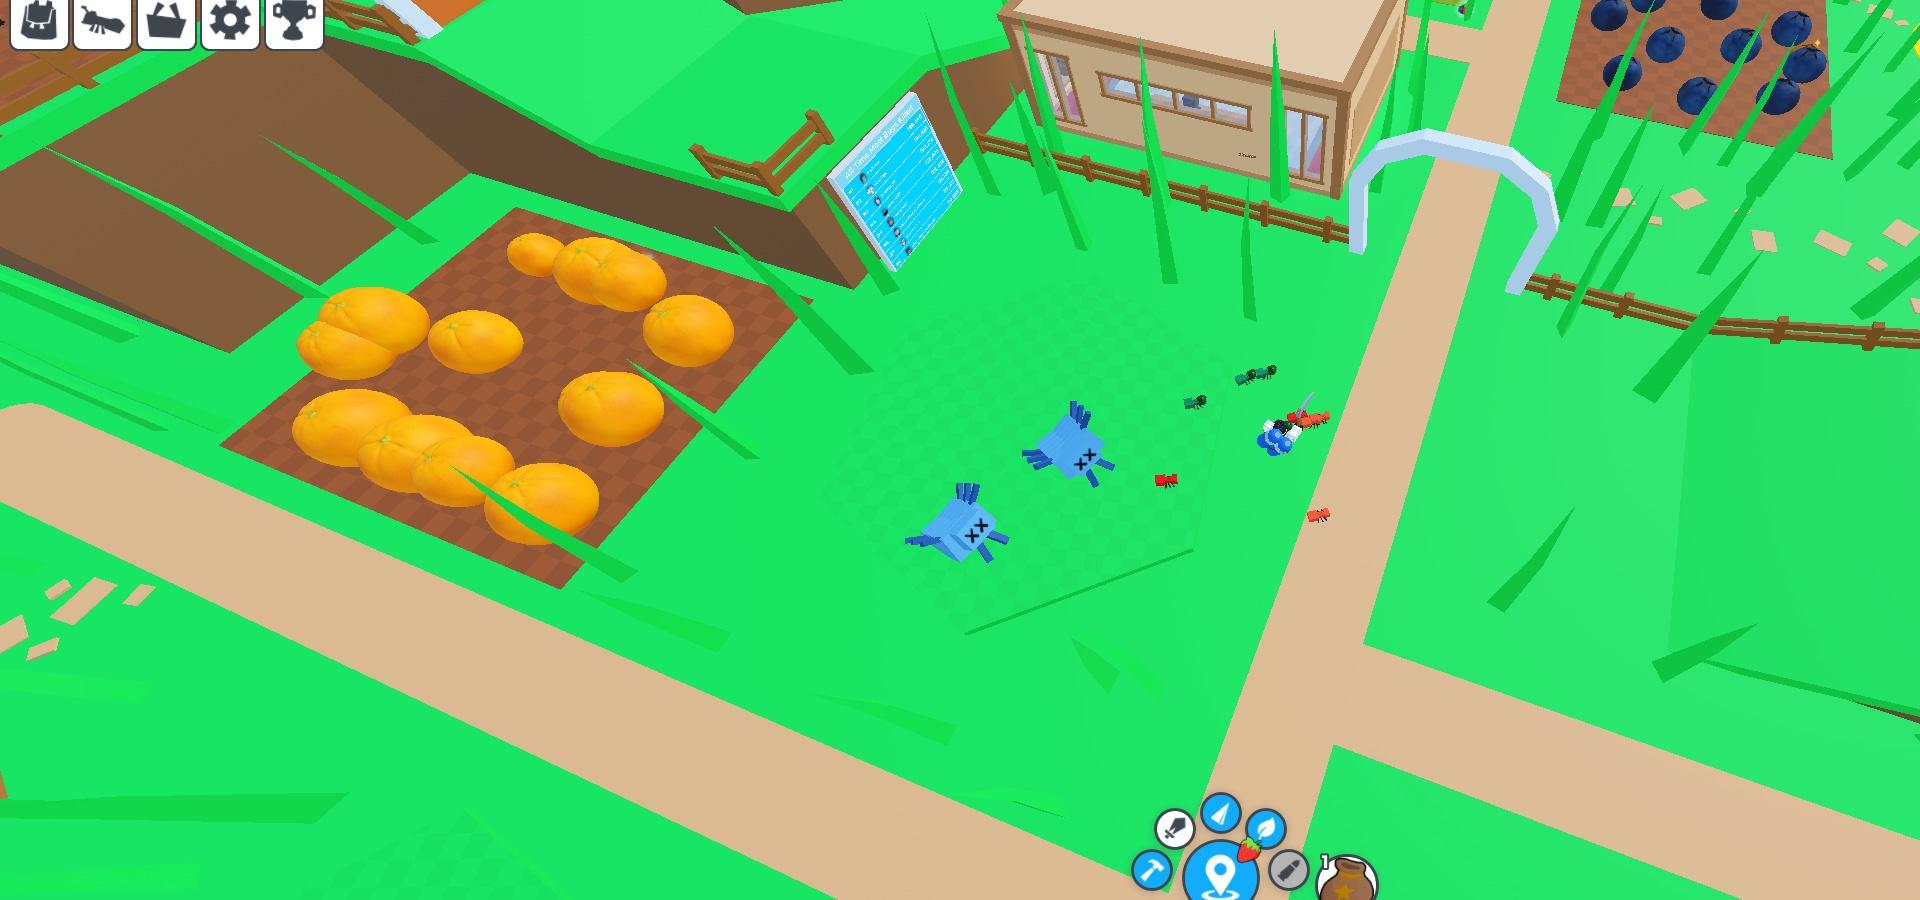Enemy: (898, 475, 1009, 567), (1018, 403, 1119, 491)
